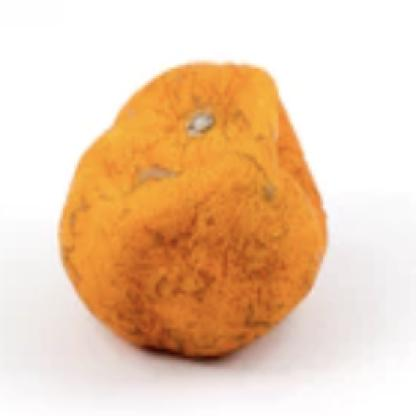rotten: (56, 53, 329, 360)
